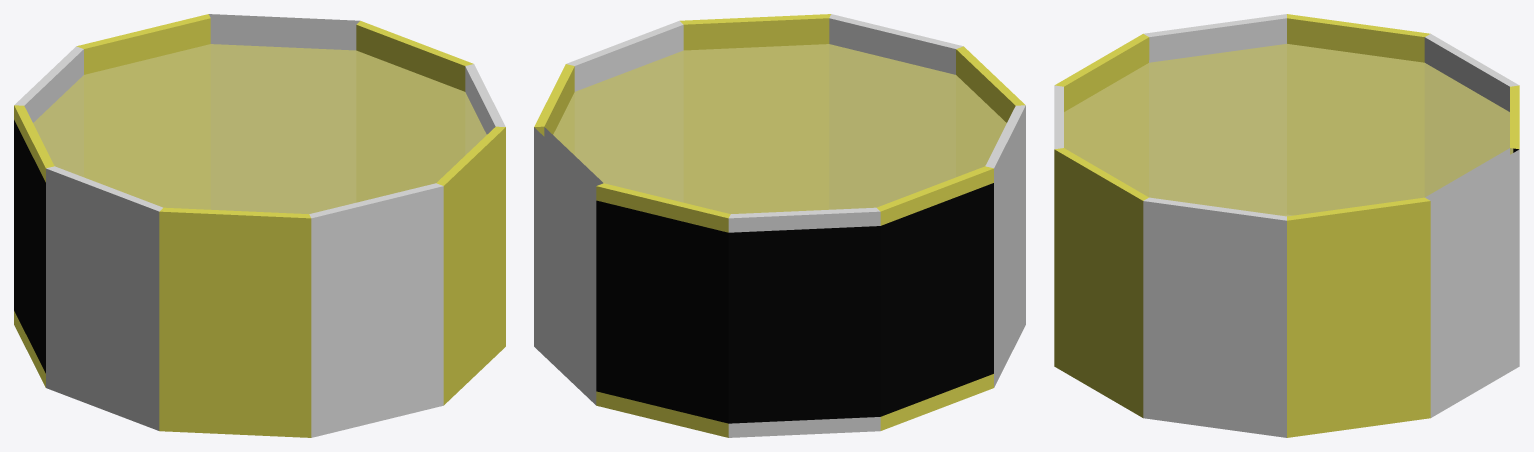
File: IceCupSmallOpen.fbx
The picture shows the model from 3 angles, left to right: view 1: azimuth 30°, elevation 25°; view 2: azimuth 150°, elevation 25°; view 3: azimuth 270°, elevation 25°; orthographic projection.
Visible parts, largest first — view 1: IceCupOpenSmall, Ice5; view 2: IceCupOpenSmall, Ice5; view 3: IceCupOpenSmall, Ice5.
Part boxes in pixels (x1,y1,x2,y2): IceCupOpenSmall: [14, 14, 505, 437]; Ice5: [33, 44, 486, 213]; IceCupOpenSmall: [534, 14, 1025, 437]; Ice5: [553, 44, 1006, 213]; IceCupOpenSmall: [1054, 14, 1519, 437]; Ice5: [1064, 44, 1513, 216].
Size of the model in its own units: 9.68 by 4.74 by 9.2.
